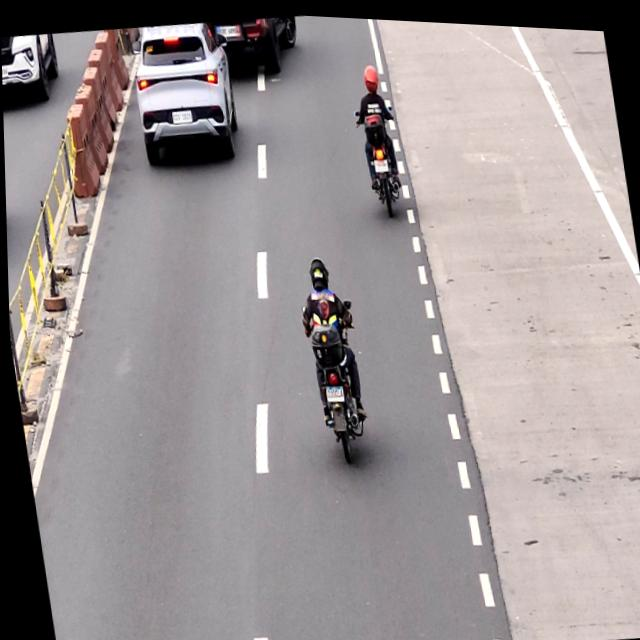Car: (128, 16, 242, 165), (215, 9, 307, 73)
License-Plate: (320, 378, 344, 402), (169, 107, 193, 124), (372, 152, 389, 173), (219, 22, 241, 38)
Motorcycle: (296, 248, 370, 467), (349, 61, 404, 214)
